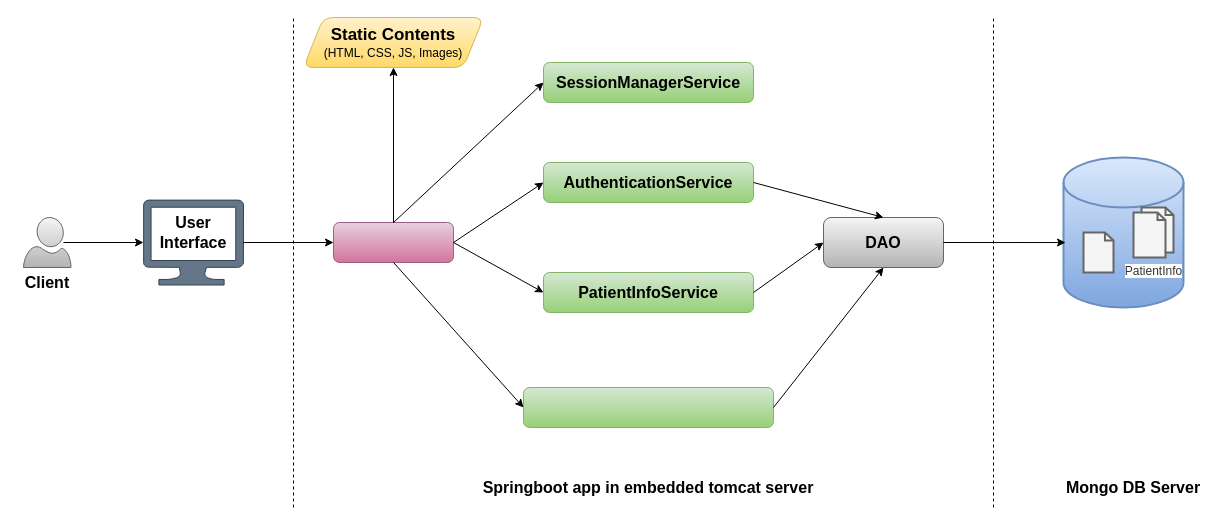
The diagram is 1221 pixels wide and 526 high, and some of its shapes have lost their labels. The shapes that lost their labels are listed below. From the top down, each one's centre as x and y in pixels, then its label:
At (393,242): "Controllers".
At (1098,252): "UserAccount".
At (648,407): "InvoiceAndPrescriptionService".
